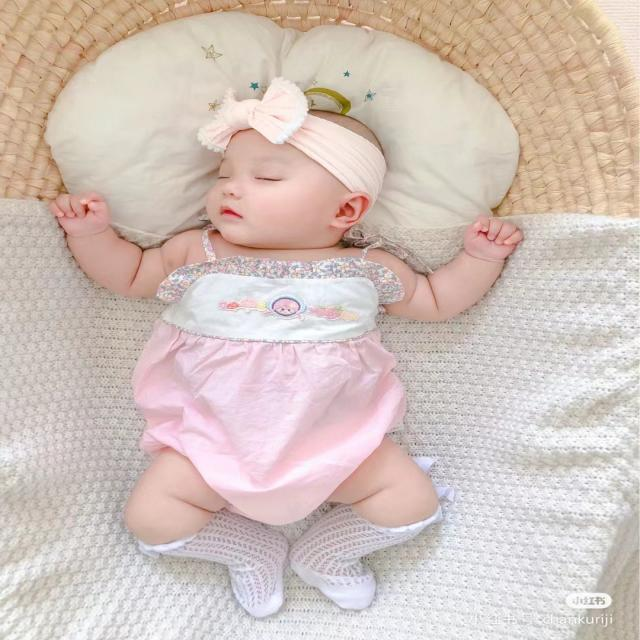baby: (50, 109, 524, 620)
